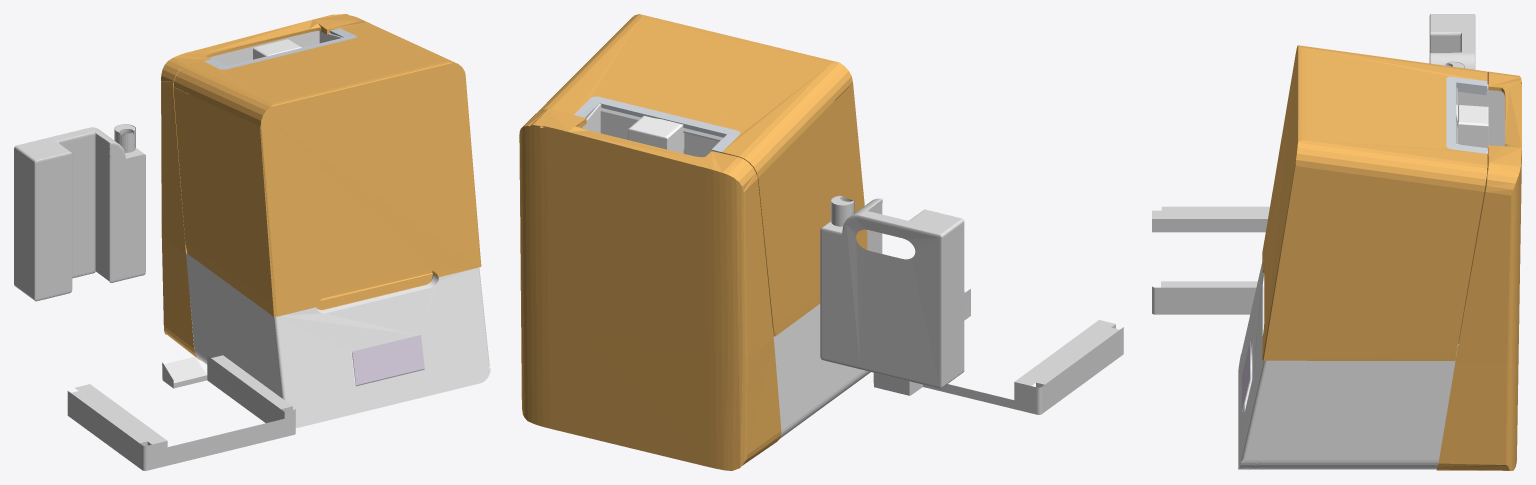
3 renders of one model, left to right at view 1: azimuth 30°, elevation 25°; view 2: azimuth 150°, elevation 25°; view 3: azimuth 270°, elevation 25°, orthographic. The views are drawn at different scales.
Parts seen in each view (by area): view 1: hood, backof plate, edit, NEW PRINTER CART, printer tray, screen, z tower; view 2: backof plate, edit, hood, NEW PRINTER CART, printer tray, z tower; view 3: hood, backof plate, edit, printer tray, z tower, NEW PRINTER CART.
Boxes of the visible parts, left/top/right/bottom form: hood: left=173, top=22, right=481, bottom=316; backof plate, edit: left=161, top=14, right=490, bottom=427; NEW PRINTER CART: left=14, top=124, right=145, bottom=301; printer tray: left=67, top=355, right=295, bottom=470; screen: left=352, top=335, right=424, bottom=386; z tower: left=209, top=30, right=342, bottom=65; backof plate, edit: left=519, top=108, right=870, bottom=470; hood: left=538, top=14, right=867, bottom=336; NEW PRINTER CART: left=820, top=195, right=964, bottom=388; printer tray: left=873, top=289, right=1123, bottom=414; z tower: left=567, top=103, right=723, bottom=157; hood: left=1262, top=45, right=1487, bottom=360; backof plate, edit: left=1238, top=71, right=1521, bottom=470; printer tray: left=1152, top=206, right=1269, bottom=314; z tower: left=1456, top=84, right=1505, bottom=153; NEW PRINTER CART: left=1429, top=14, right=1475, bottom=69.
Size of the model in its own units: 73.55 by 54.53 by 55.78.
